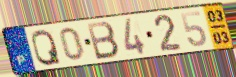0: (59, 26, 88, 63)
2: (153, 13, 184, 53)
4: (123, 17, 147, 57)
5: (179, 10, 208, 48)
B: (85, 20, 121, 61)
Q: (30, 28, 63, 67)
